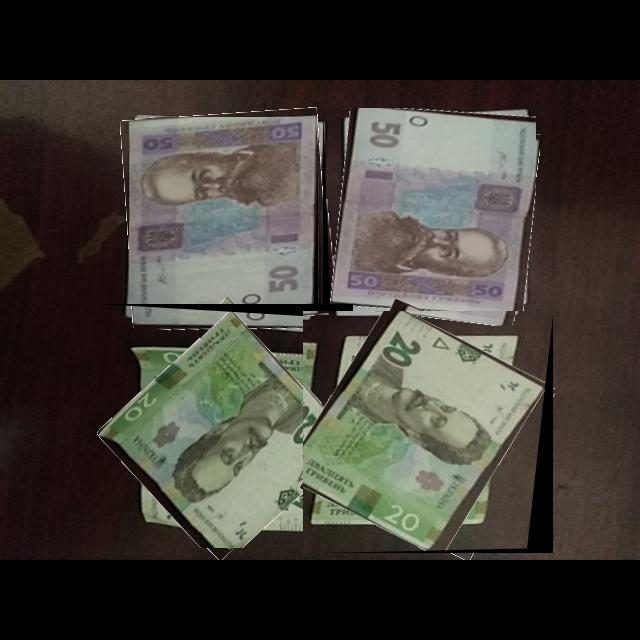20uah: (100, 311, 354, 549), (303, 311, 548, 552)
50uah: (329, 108, 537, 320), (129, 117, 317, 322)
